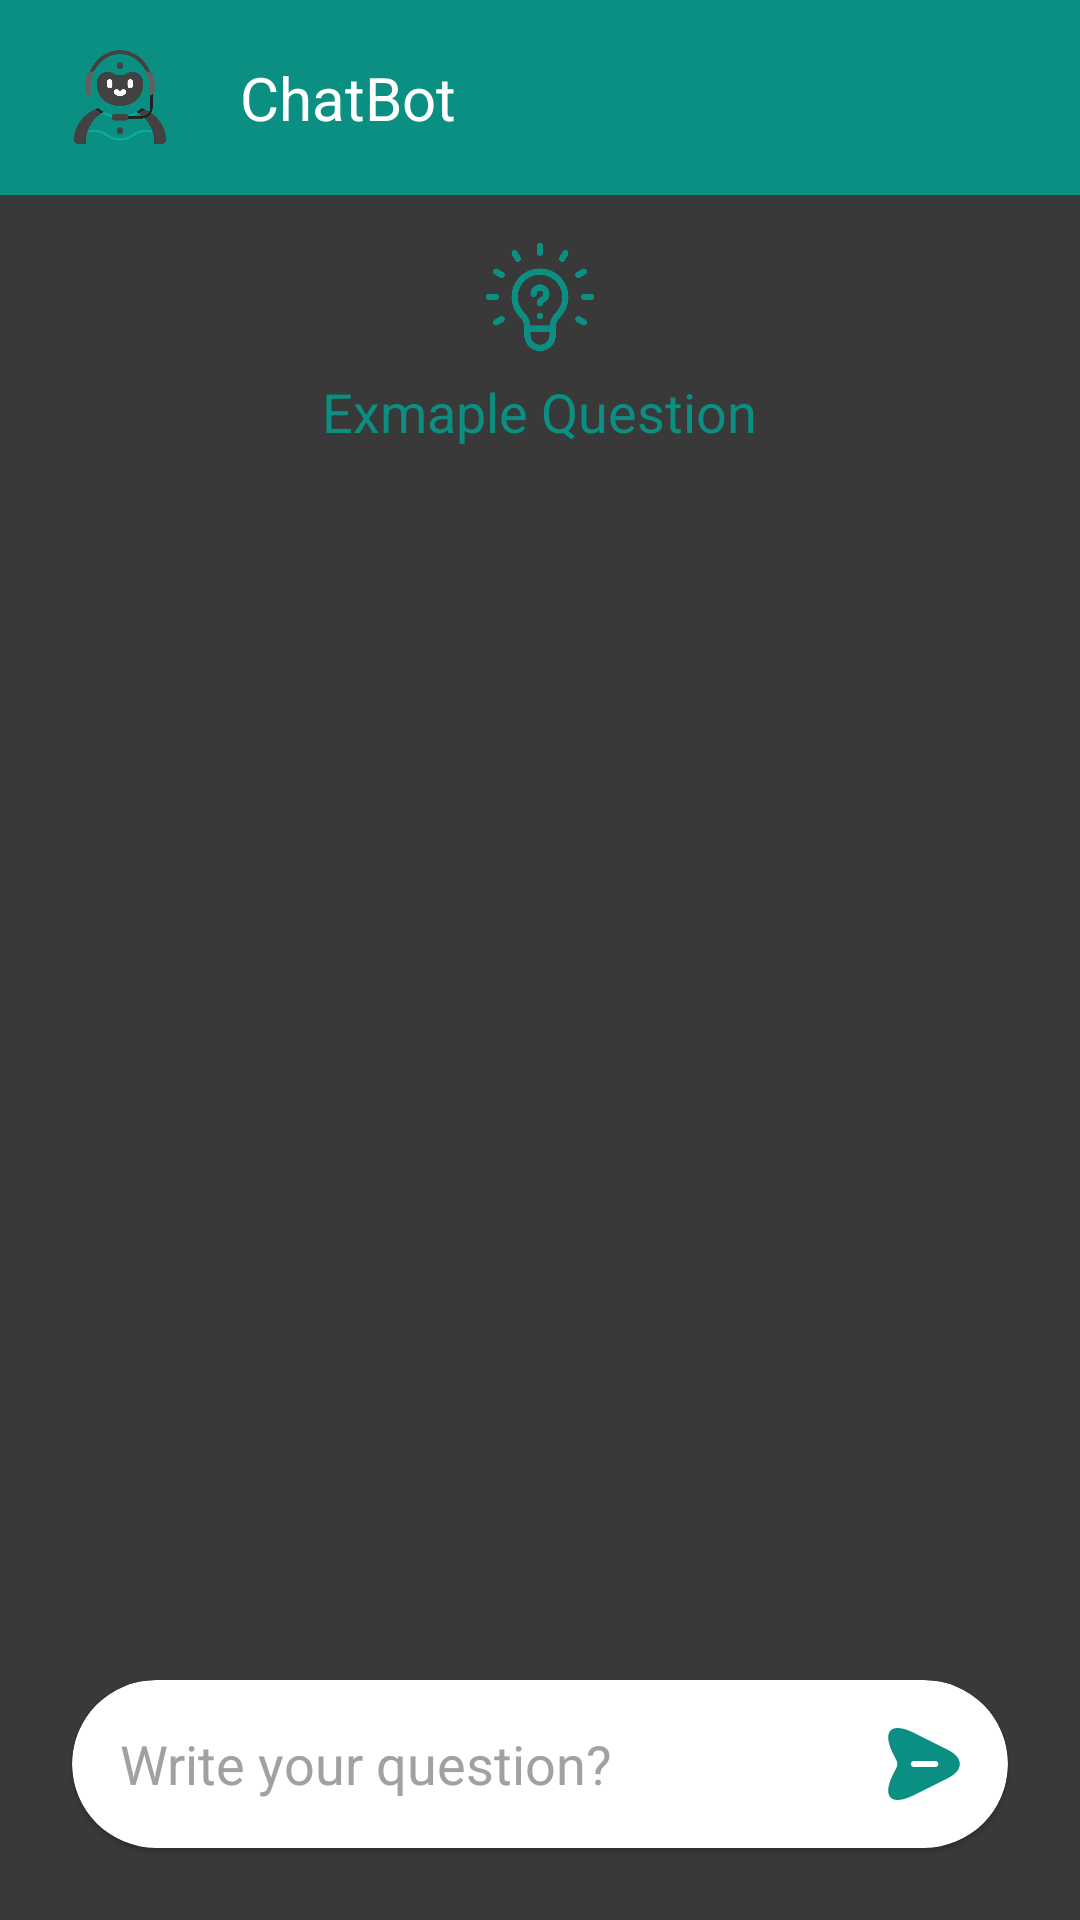

Icon click points for this 1080w x 1920h phone screenshot, format [x,y]:
robot: [120,97]
send: [924,1764]
